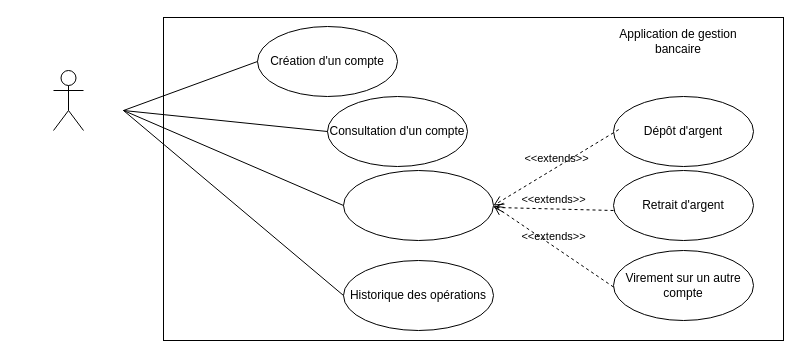
The diagram is 801 pixels wide and 358 high, and some of its shapes have lost their labels. The centre of each missing label's shape, as x and y in pixels:
"Conseiller bancaire" goes at [68,100].
"Gestion des opérations" goes at [418,205].
